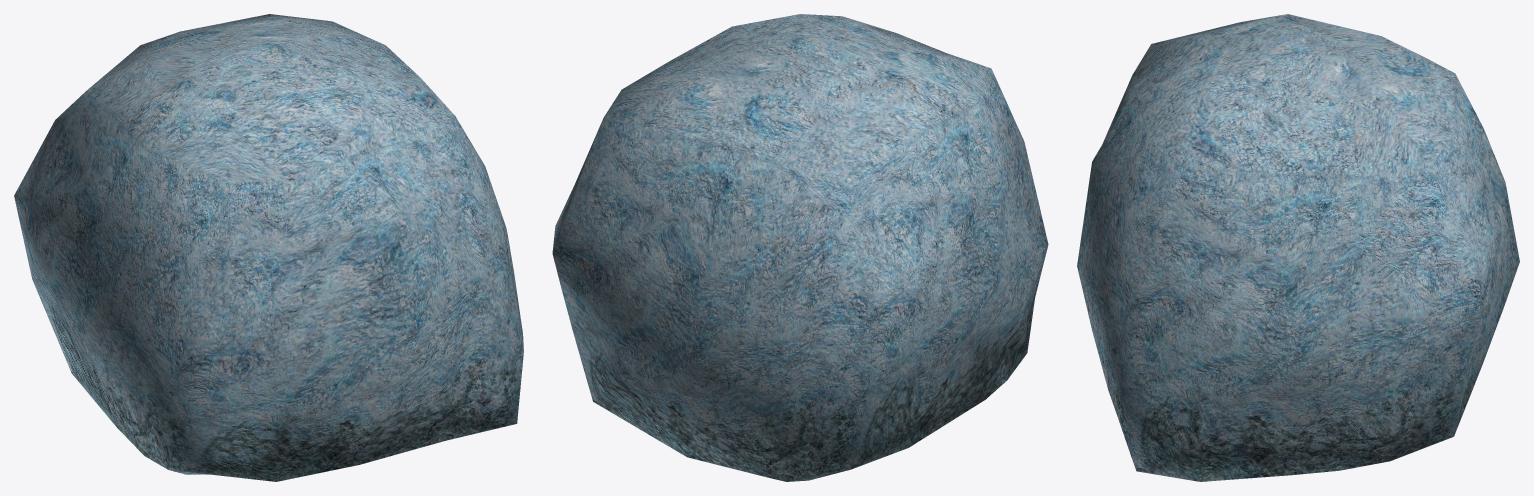
The model's file is thm_all_cavewall_ice_a1_l1.fbx.
3 views of the same model, side by side, from view 1: azimuth 30°, elevation 25°; view 2: azimuth 150°, elevation 25°; view 3: azimuth 270°, elevation 25° (orthographic). The views are drawn at different scales.
Visible parts, largest first — view 1: mesh_node; view 2: mesh_node; view 3: mesh_node.
Boxes of the visible parts, x1=… form: mesh_node: x1=14, y1=14, x2=523, y2=481; mesh_node: x1=552, y1=14, x2=1048, y2=481; mesh_node: x1=1077, y1=14, x2=1519, y2=481.
Bounding box in the file's own units: 11.24 × 10.79 × 11.11.
